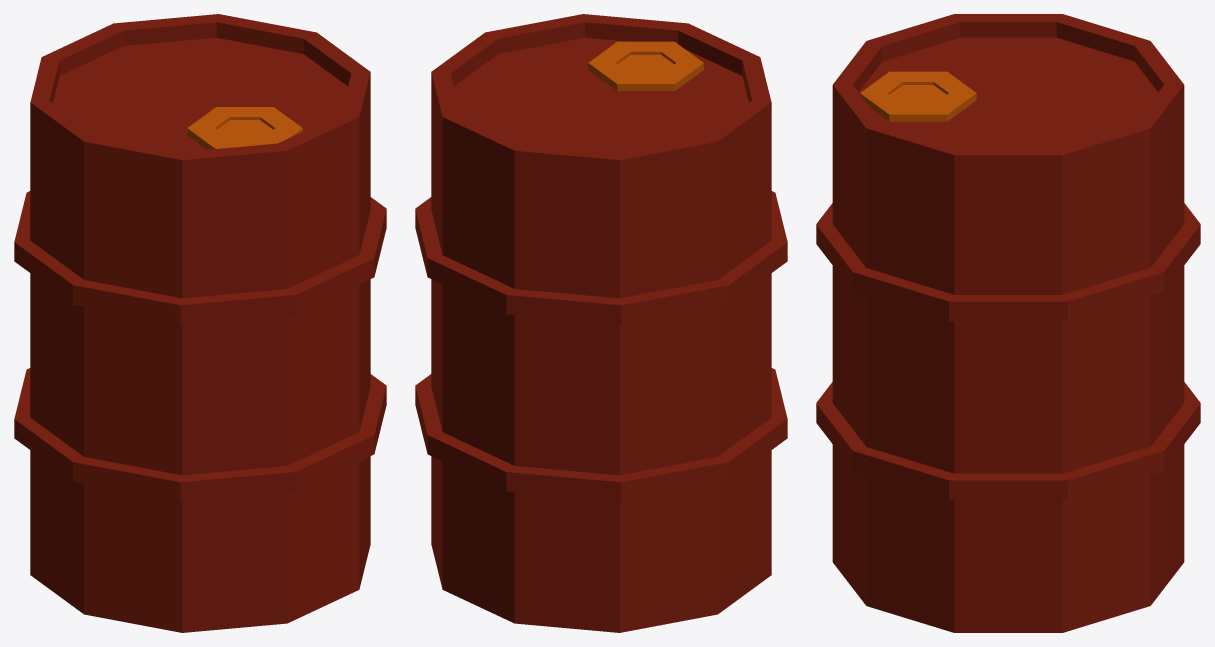
File: OilDrum_03.fbx
3 views of the same model, side by side, from view 1: azimuth 30°, elevation 25°; view 2: azimuth 150°, elevation 25°; view 3: azimuth 270°, elevation 25° (orthographic).
Visible parts, largest first — view 1: OilDrum_03; view 2: OilDrum_03; view 3: OilDrum_03.
Boxes of the visible parts, x1,y1,x2,y2 form: OilDrum_03: [14, 14, 386, 632]; OilDrum_03: [415, 14, 787, 632]; OilDrum_03: [816, 14, 1200, 632].
Bounding box in the file's own units: 326 × 470 × 343.
